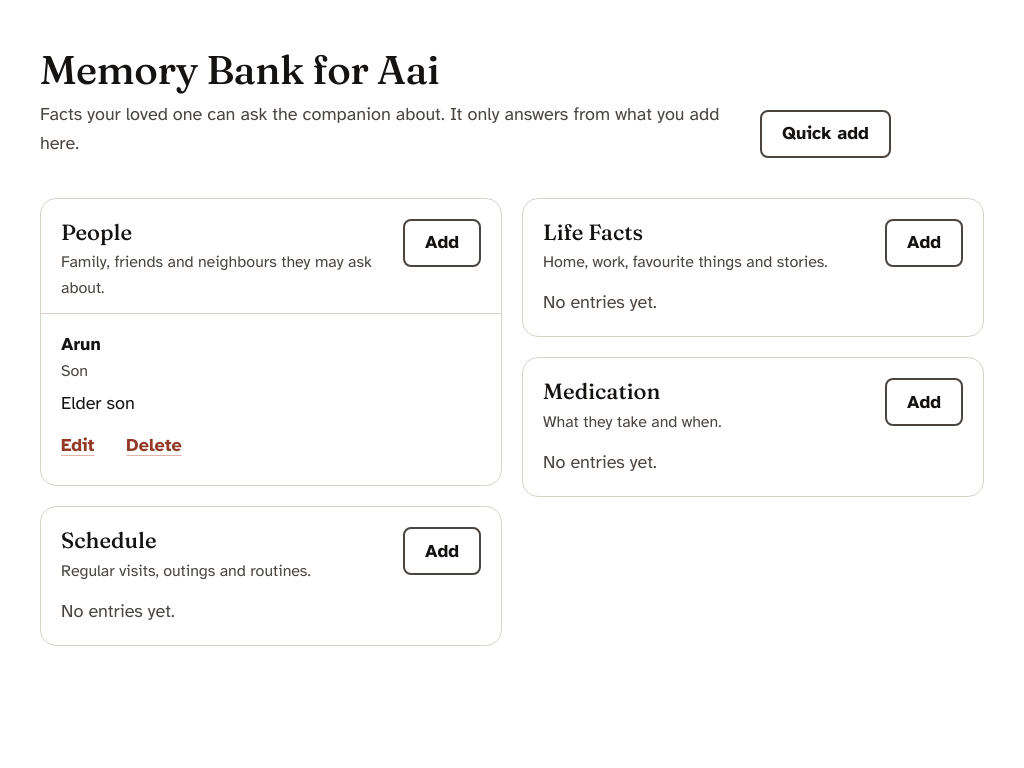
Test: Memory Bank editor › guidance against confusing duplicate entries › warns, without blocking Save, when a second person shares a relationship with an existing one
Expected: the text "Arun" is shown, [61,333,101,355]
Click the button "Add" in the row of "People": [442, 243] box [403,219,481,267]
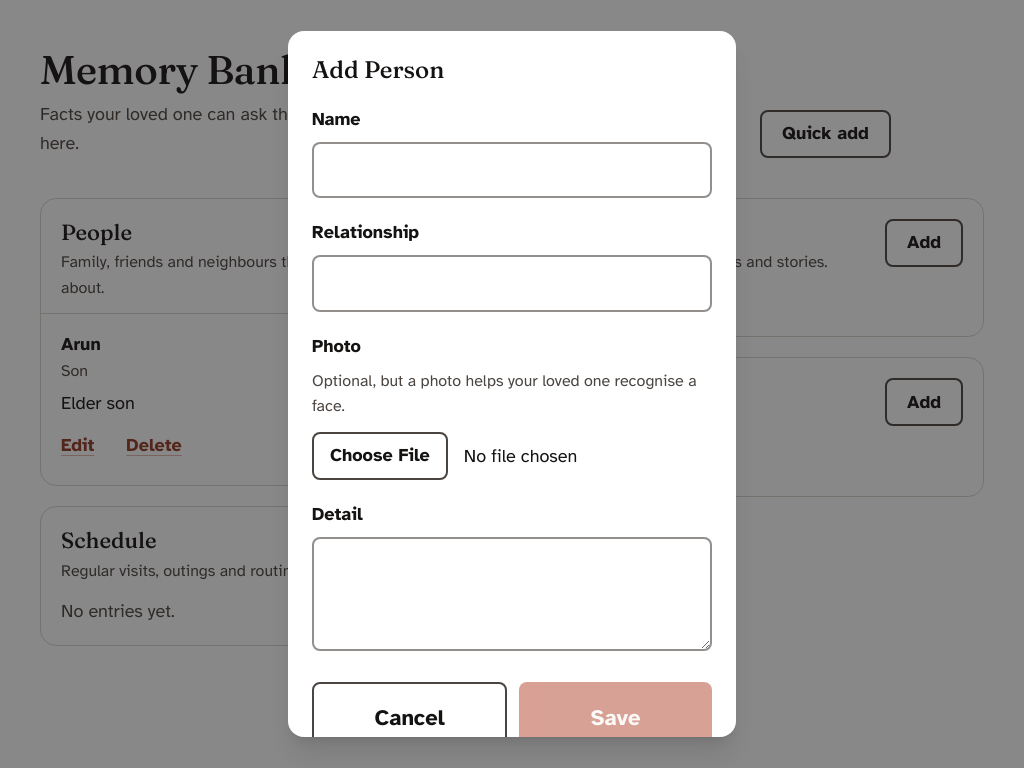
In the field labelled "Name": [512, 170] box [312,142,712,198], type "David"
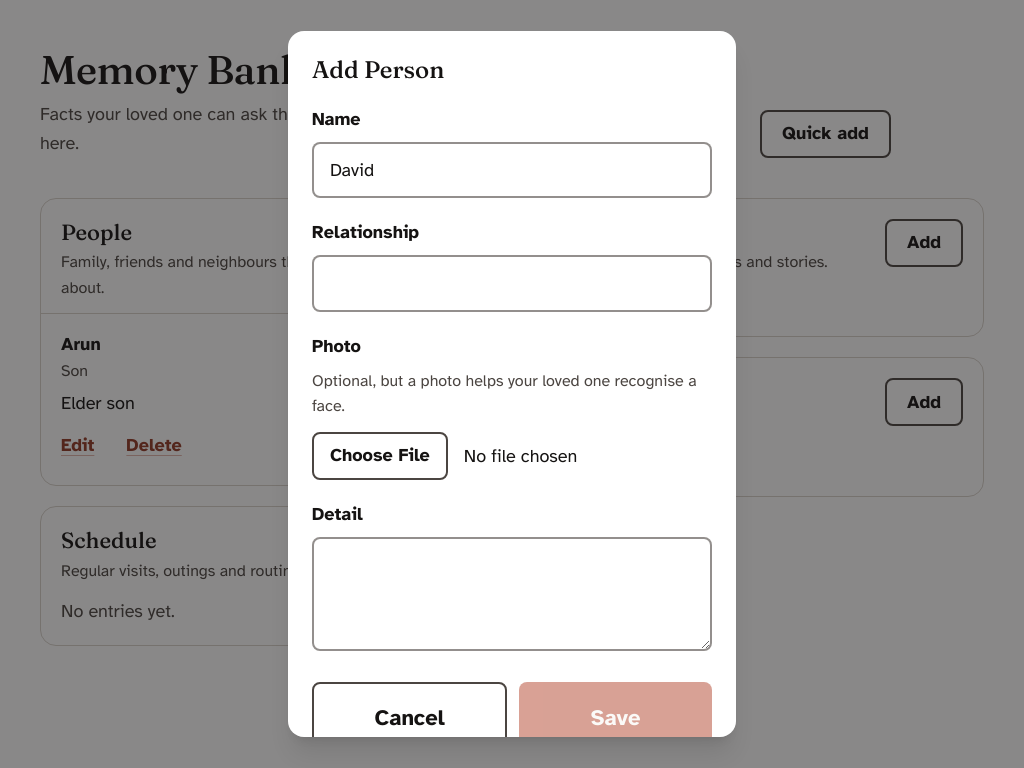
In the field labelled "Relationship": [512, 284] box [312,255,712,312], type "Son"
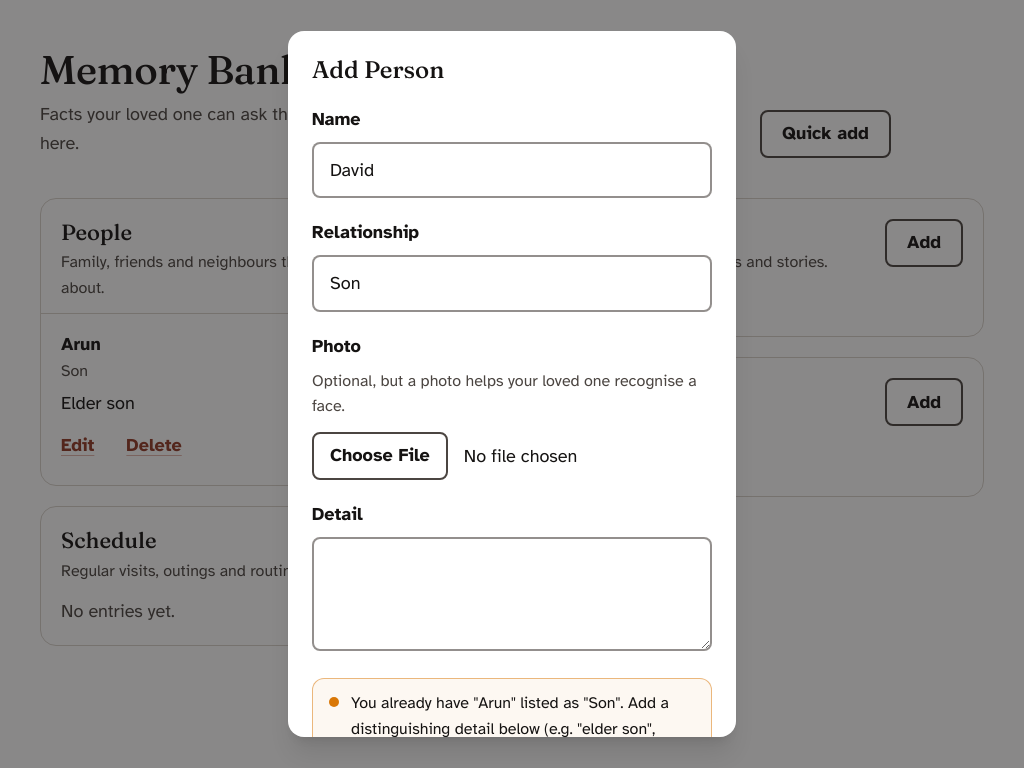
In the text box labelled "Detail": [512, 594] box [312,537,712,651], type "Younger son, lives abroad"
(page scrolled)
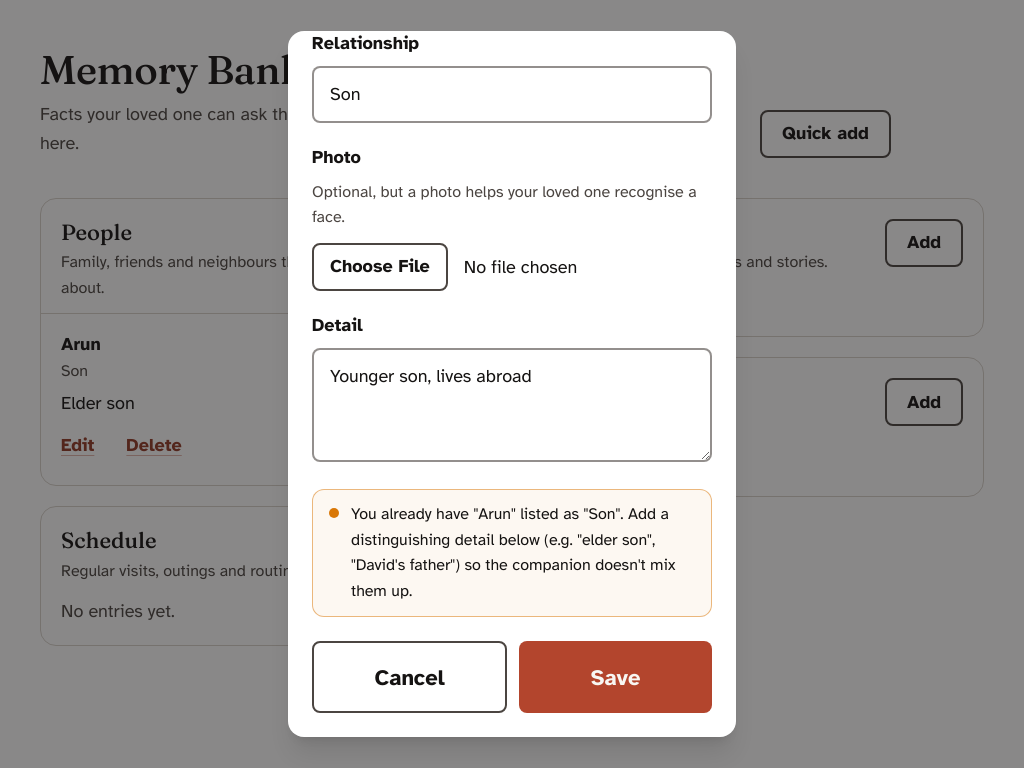
Now the text "already have \"Arun\" listed as \"Son\"" is shown, box [351,504,675,601]
Now the button "Save" is enabled, box [519,642,712,714]
